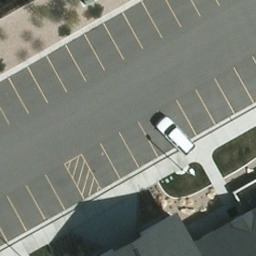car: (151, 116, 197, 157)
